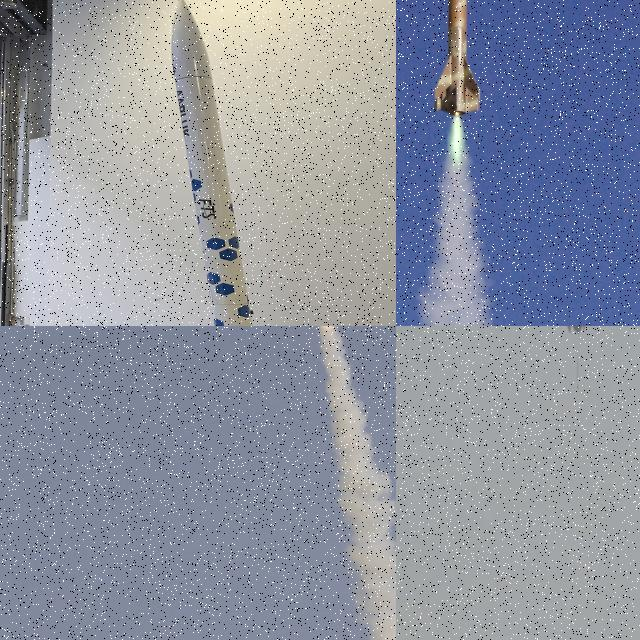Rocket: (171, 0, 253, 326), (432, 0, 482, 117), (577, 384, 579, 390)
